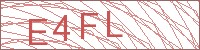4: (51, 13, 71, 41)
E: (26, 17, 50, 46)
F: (78, 12, 100, 41)
L: (105, 9, 124, 38)
